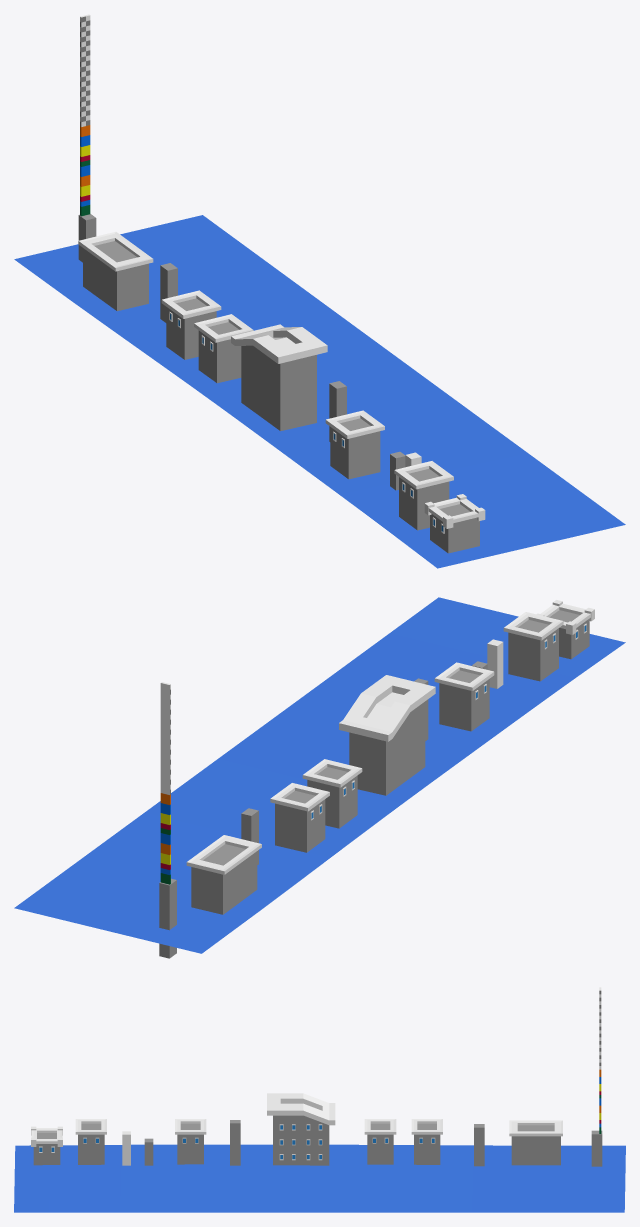
File: Level2Map.fbx
3 views of the same model, one above another, from view 1: azimuth 30°, elevation 25°; view 2: azimuth 150°, elevation 25°; view 3: azimuth 270°, elevation 25° (orthographic). The views are drawn at different scales.
Visible parts, largest first — view 1: Cube.014, Cube.017, Cube.040, Cube.018, Cube.011, Cube.024, Cube.009, Cube.026, Cube, Cube.039, Cube.029, Cube.015 (+2 smaller); view 2: Cube.014, Cube.017, Cube.018, Cube.040, Cube.026, Cube.009, Cube.011, Cube.024, Cube.039, Cube.035, Cube.025, Cube (+7 smaller); view 3: Cube.014, Cube.017, Cube.040, Cube.018, Cube.009, Cube.011, Cube.024, Cube.026, Cube.039, Cube, Cube.016, Cube.038 (+5 smaller).
Part boxes in pixels (x1,y1,x2,y2): Cube.014: (14, 215, 625, 568); Cube.017: (241, 345, 316, 431); Cube.040: (83, 241, 148, 311); Cube.018: (231, 324, 327, 363); Cube.011: (330, 418, 380, 479); Cube.024: (198, 322, 241, 383); Cube.009: (399, 469, 449, 530); Cube.026: (166, 298, 216, 359); Cube: (430, 504, 479, 553); Cube.039: (78, 231, 153, 271); Cube.029: (161, 290, 221, 318); Cube.015: (325, 410, 384, 438); Cube.014: (14, 597, 625, 953); Cube.017: (349, 701, 425, 795); Cube.018: (339, 675, 435, 741); Cube.040: (191, 844, 257, 914); Cube.026: (275, 791, 325, 852); Cube.009: (508, 619, 558, 681); Cube.011: (439, 670, 489, 731); Cube.024: (307, 767, 357, 828); Cube.039: (186, 835, 261, 874); Cube.035: (160, 682, 170, 794); Cube.025: (159, 878, 176, 958); Cube: (549, 610, 589, 659); Cube.014: (14, 1144, 625, 1212); Cube.017: (273, 1115, 329, 1165); Cube.040: (511, 1125, 560, 1165); Cube.018: (267, 1093, 335, 1125); Cube.009: (78, 1123, 104, 1164); Cube.011: (177, 1123, 203, 1164); Cube.024: (367, 1123, 393, 1164); Cube.026: (414, 1123, 440, 1164); Cube.039: (509, 1120, 562, 1136); Cube: (33, 1133, 60, 1165); Cube.016: (230, 1120, 240, 1165); Cube.038: (474, 1124, 484, 1166).
Size of the model in its own units: 25172 by 36234 by 98400.
